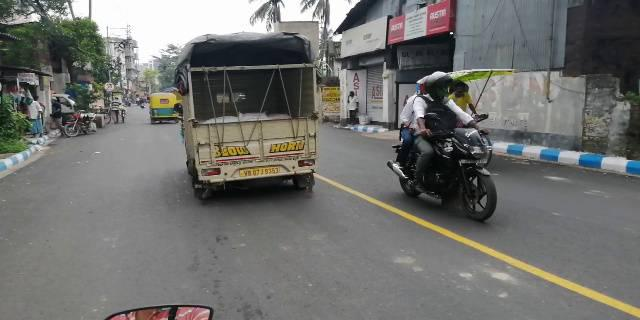Autorickshaw: (144, 89, 178, 126)
Minitruck: (175, 26, 324, 208)
Motorbike: (388, 68, 504, 225)
